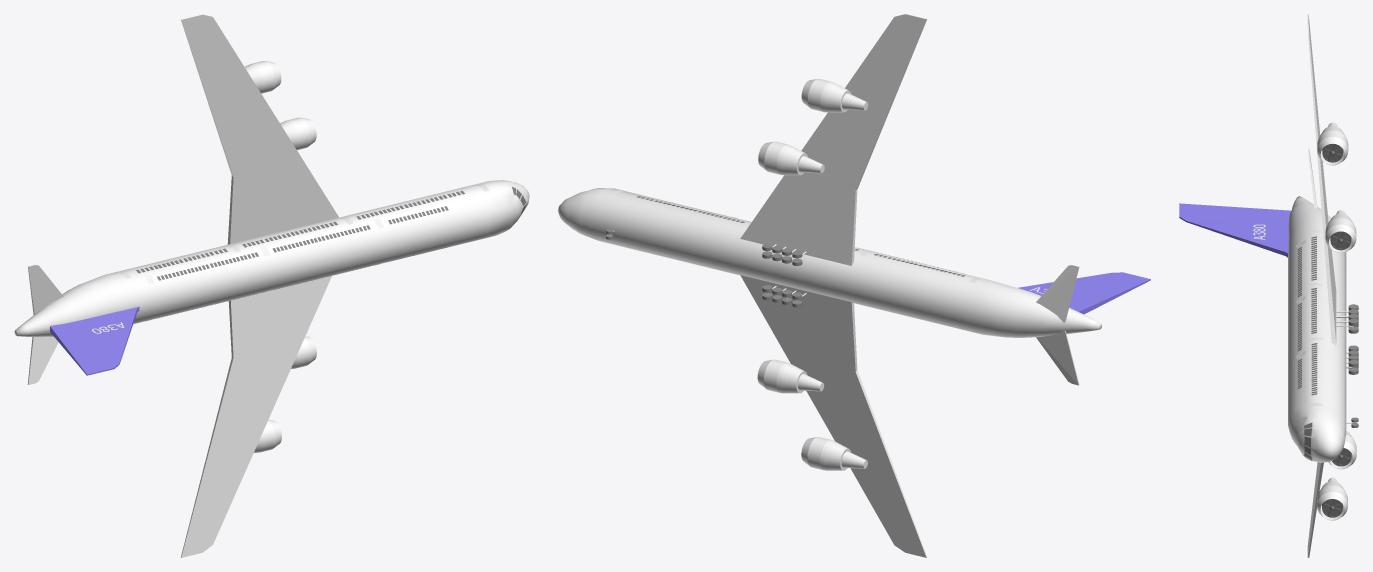
3 views of the same model, side by side, from view 1: azimuth 30°, elevation 25°; view 2: azimuth 150°, elevation 25°; view 3: azimuth 270°, elevation 25° (orthographic).
Parts seen in each view (by area): view 1: _2_wings, _1_fuselage, _4_horizontal_stabilizer, _7_nacelles, _5_windows, _3_vertical_stabilizers; view 2: _2_wings, _1_fuselage, _7_nacelles, _3_vertical_stabilizers, _4_horizontal_stabilizer, _0_wheels; view 3: _1_fuselage, _4_horizontal_stabilizer, _7_nacelles, _2_wings, _5_windows, _8_engines, _0_wheels, _6_doors.
Boxes of the visible parts, <box> form: _2_wings: <box>180,14,338,557</box>; _1_fuselage: <box>14,180,529,336</box>; _4_horizontal_stabilizer: <box>50,306,139,375</box>; _7_nacelles: <box>245,61,316,452</box>; _5_windows: <box>136,187,526,318</box>; _3_vertical_stabilizers: <box>27,264,63,384</box>; _2_wings: <box>740,14,926,557</box>; _1_fuselage: <box>558,188,1101,337</box>; _7_nacelles: <box>757,78,868,470</box>; _3_vertical_stabilizers: <box>1036,265,1079,385</box>; _4_horizontal_stabilizer: <box>1018,272,1150,314</box>; _0_wheels: <box>606,229,802,307</box>; _1_fuselage: <box>1288,196,1346,462</box>; _4_horizontal_stabilizer: <box>1179,203,1290,257</box>; _7_nacelles: <box>1317,122,1356,520</box>; _2_wings: <box>1307,14,1336,557</box>; _5_windows: <box>1297,236,1317,460</box>; _8_engines: <box>1322,143,1351,517</box>; _0_wheels: <box>1348,304,1358,427</box>; _6_doors: <box>1296,229,1322,406</box>.
Bounding box in the file's own units: 28438 × 27790 × 8457.
